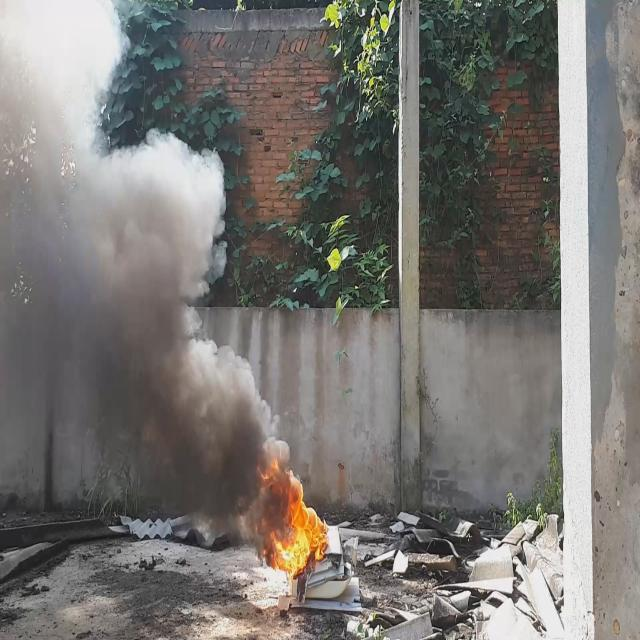Fire: (262, 458, 330, 584)
Smoke: (0, 1, 295, 552)
